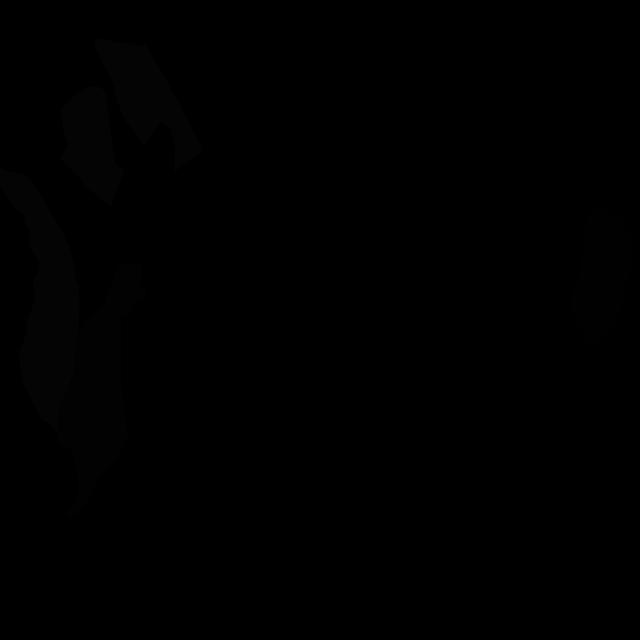cardboard: (57, 262, 148, 517)
rigid_plastic: (570, 207, 633, 343)
soft_plastic: (0, 167, 80, 433), (95, 38, 203, 172), (60, 86, 124, 208)
